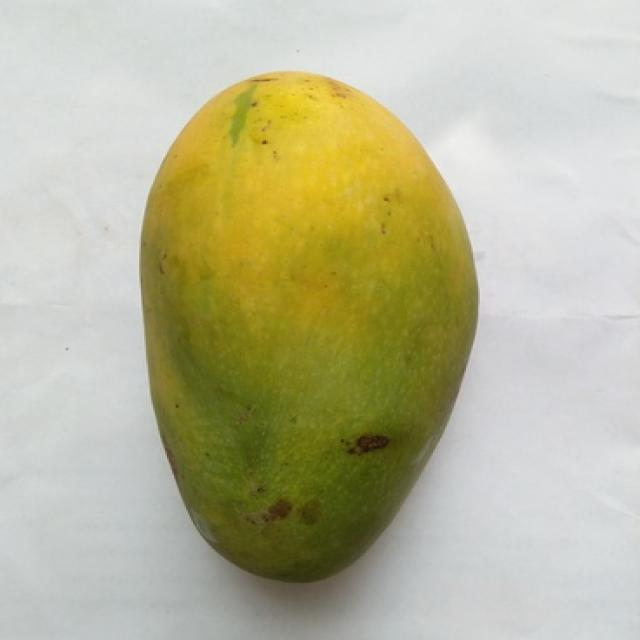Mango: (141, 73, 477, 580)
